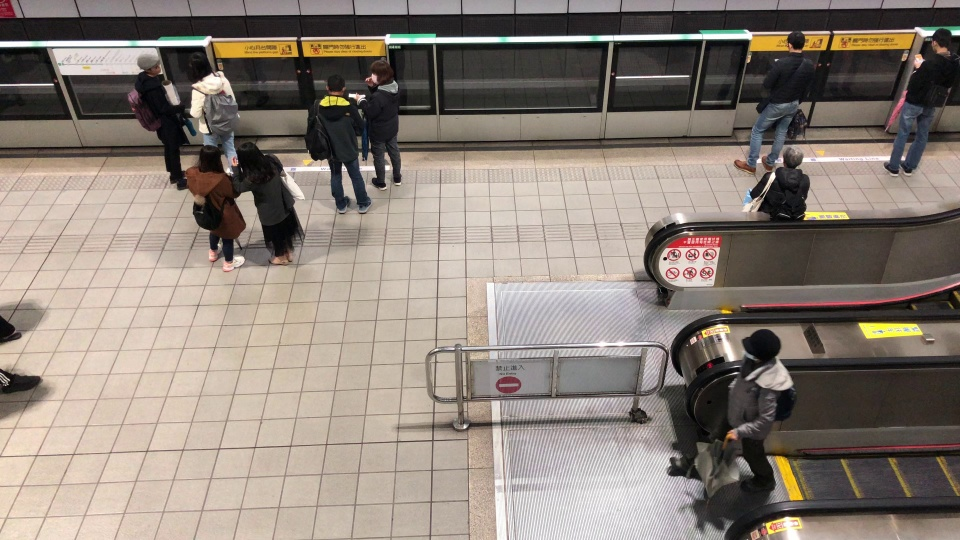person_head: (739, 329, 782, 370), (234, 142, 267, 188), (363, 57, 395, 92), (193, 145, 224, 175), (184, 52, 213, 82), (930, 28, 953, 54), (781, 144, 803, 169), (136, 54, 162, 75), (323, 75, 346, 97), (786, 31, 805, 54)
person_vbox: (668, 329, 797, 495), (729, 31, 815, 174), (881, 28, 959, 178), (227, 141, 307, 268), (303, 74, 372, 215), (126, 54, 189, 191), (181, 145, 247, 273), (183, 52, 241, 177), (353, 57, 403, 192), (741, 144, 812, 220)
